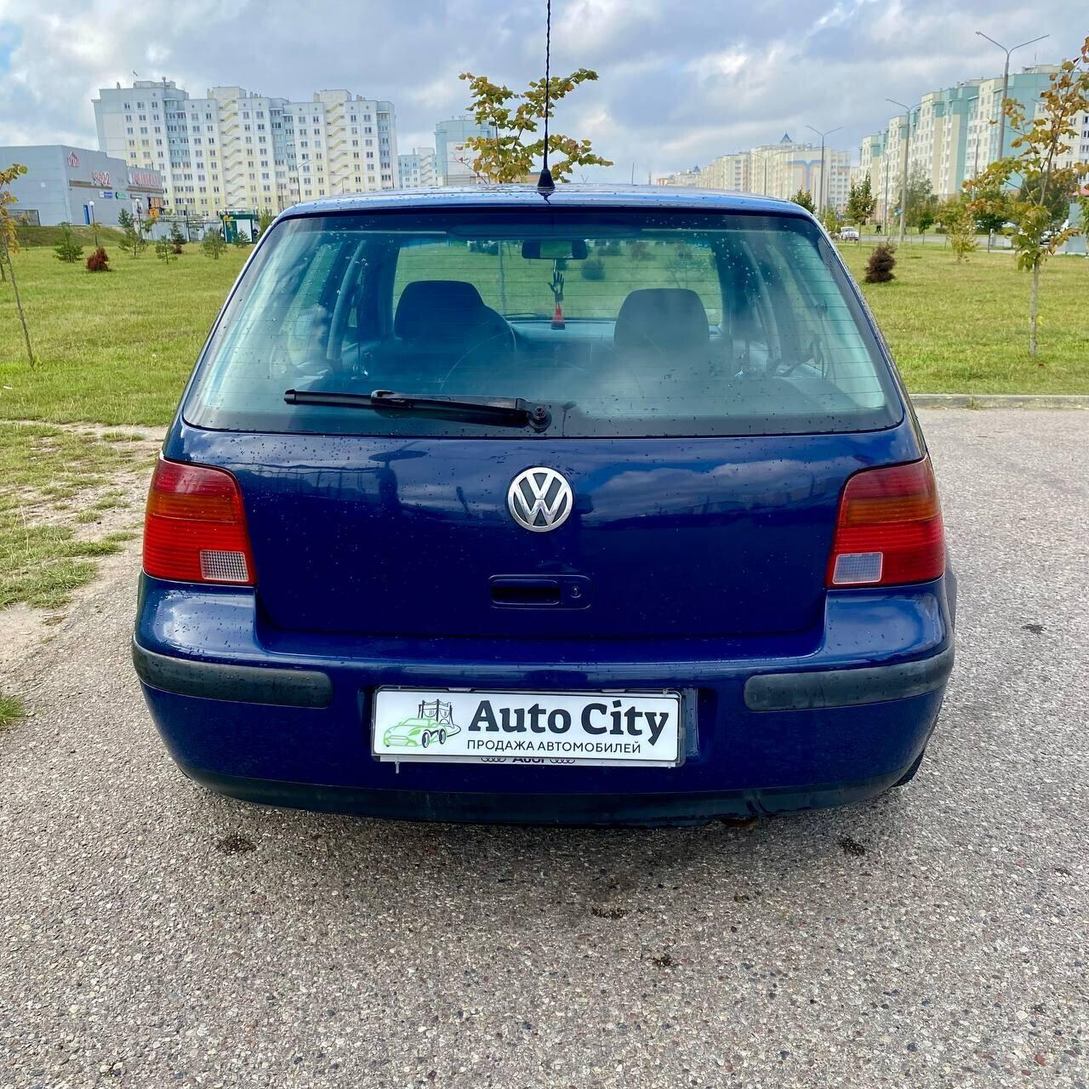Golf_1997-2006: (128, 183, 961, 842)
